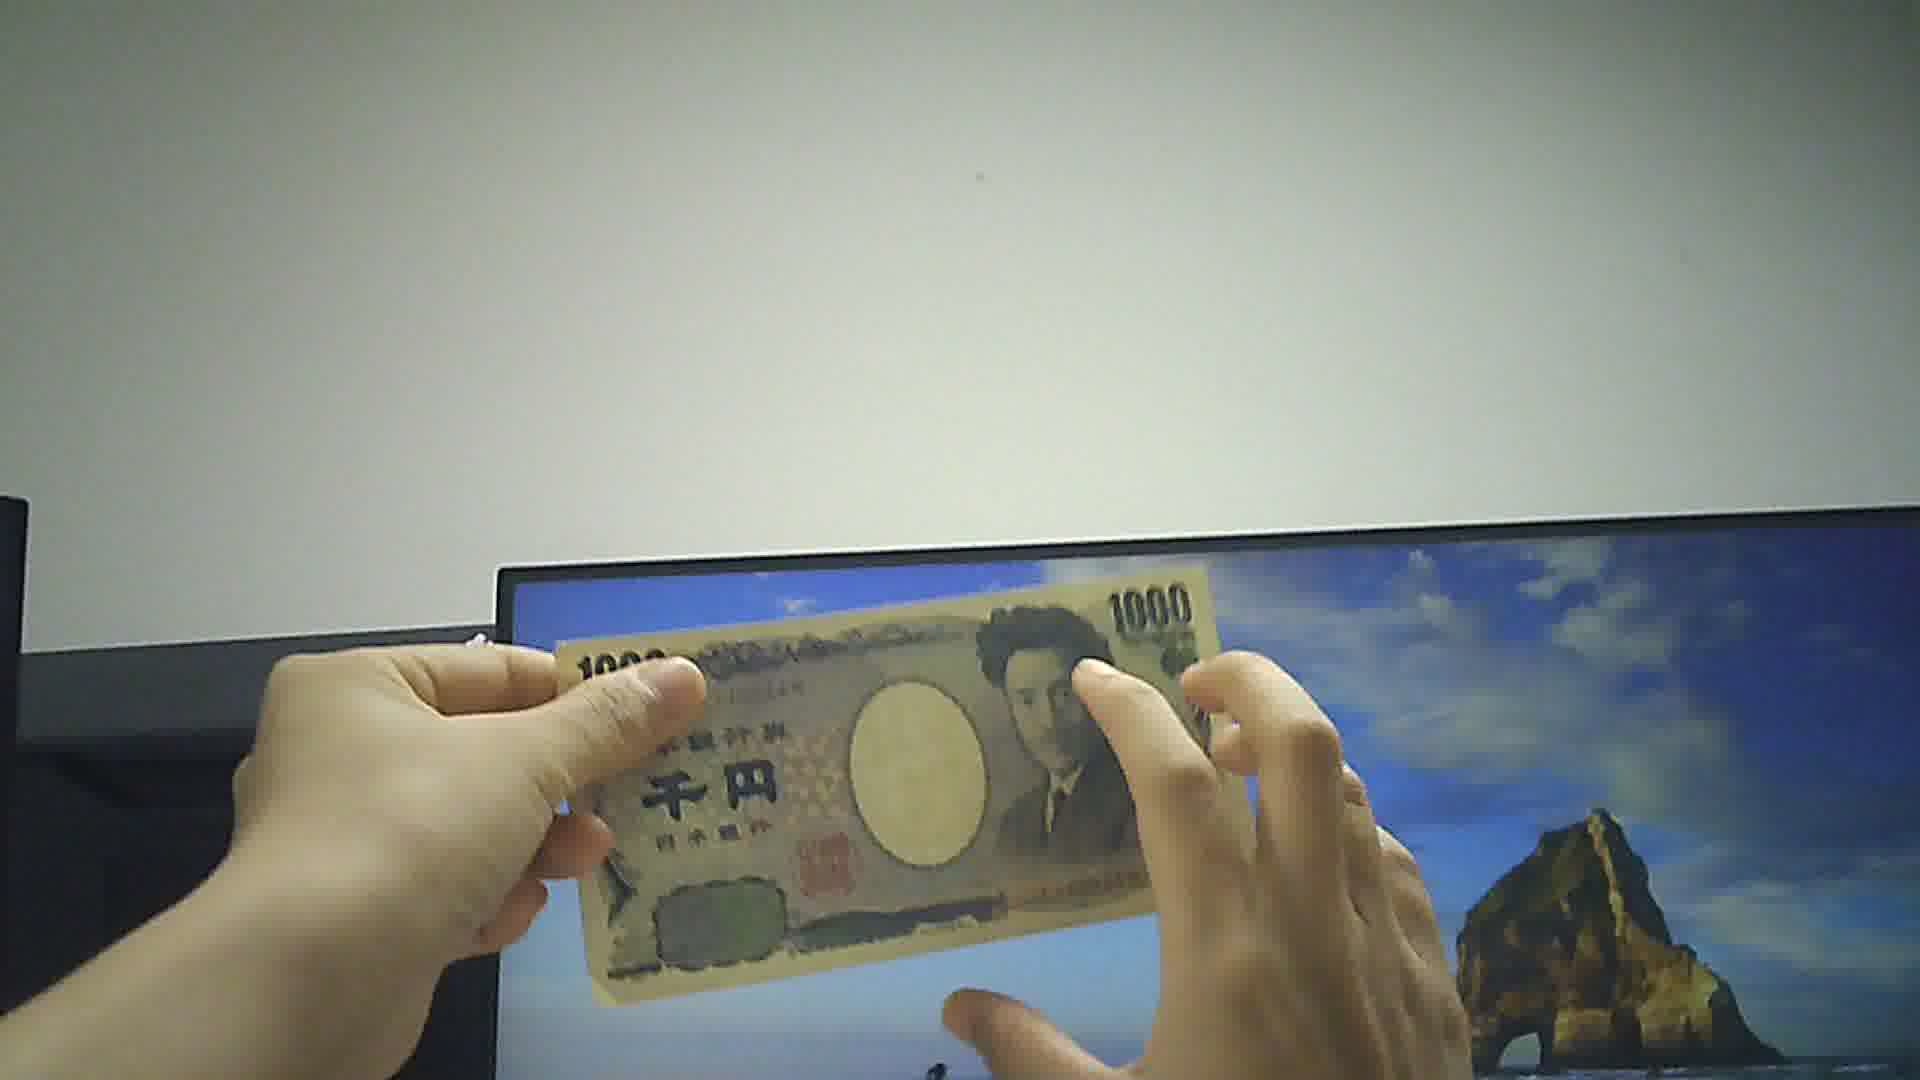1,000 Yen: (525, 574, 1245, 1009)
